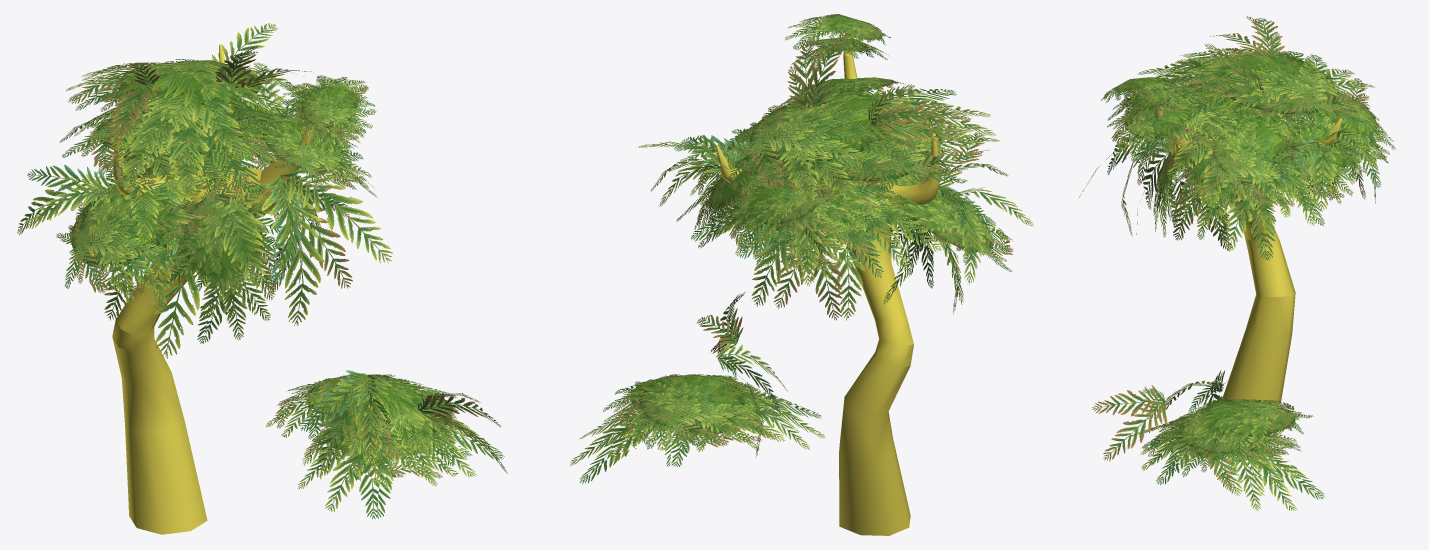
File: 10__2Arbol con Hojas de Helecho.fbx
3 renders of one model, left to right at view 1: azimuth 30°, elevation 25°; view 2: azimuth 150°, elevation 25°; view 3: azimuth 270°, elevation 25°, orthographic. The views are drawn at different scales.
Parts seen in each view (by area): view 1: 0_Racimo_Helechos.001; view 2: 0_Racimo_Helechos.001; view 3: 0_Racimo_Helechos.001.
Boxes of the visible parts, x1,y1,x2,y2 form: 0_Racimo_Helechos.001: (17,23,507,534); 0_Racimo_Helechos.001: (570,14,1033,535); 0_Racimo_Helechos.001: (1079,16,1395,510).
Size of the model in its own units: 856 by 784 by 629.
